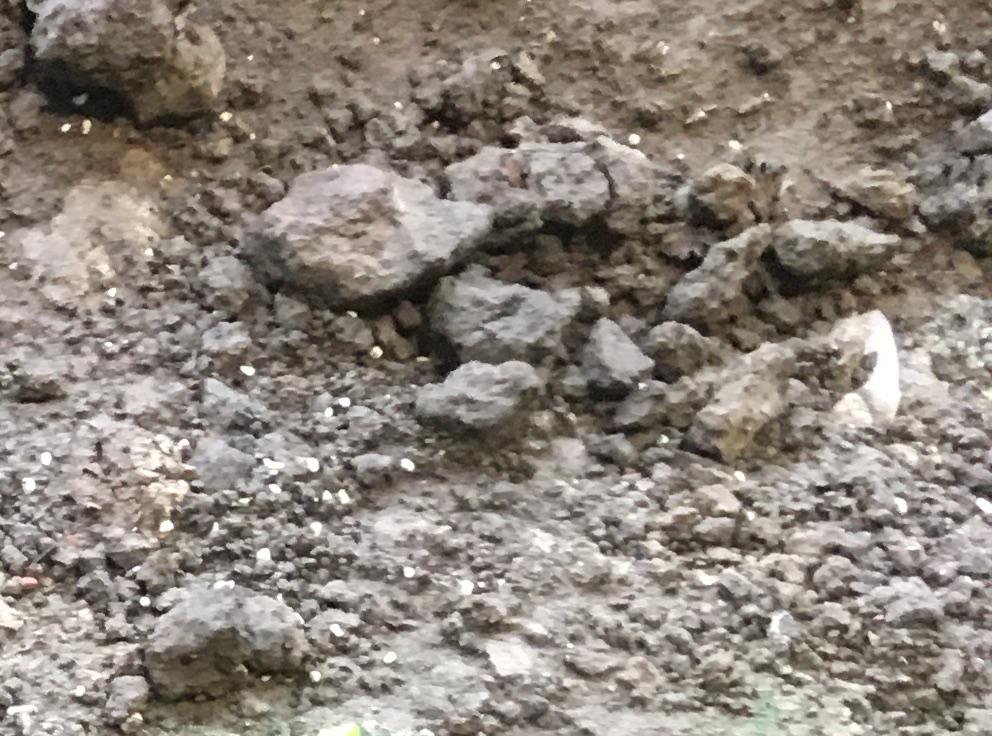block: (248, 162, 491, 307), (36, 1, 231, 132), (141, 577, 311, 706)
